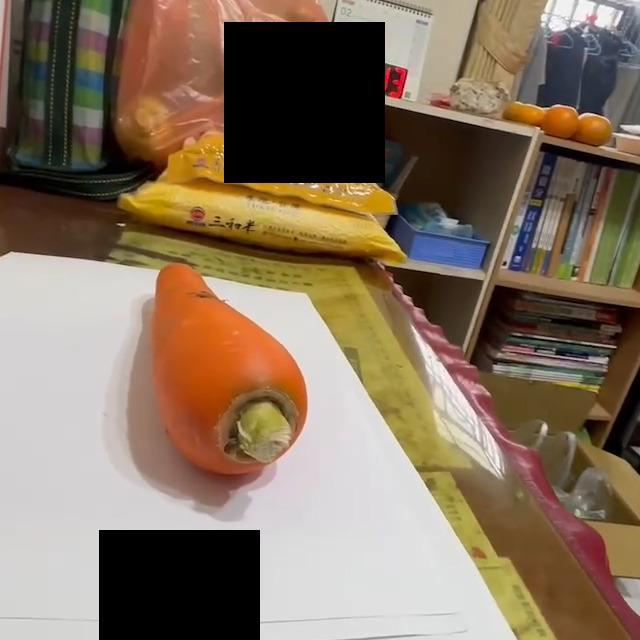carrot: (152, 263, 314, 477)
